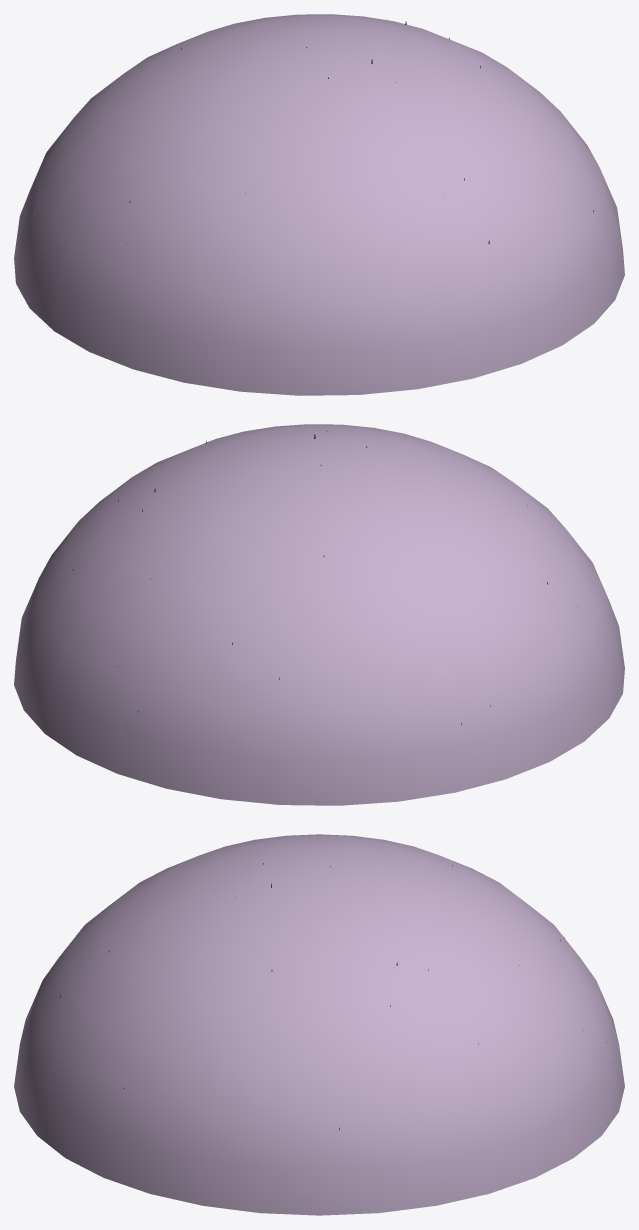
The model's file is particule_000002.obj.
The picture shows the model from 3 angles, top to bottom: view 1: azimuth 30°, elevation 25°; view 2: azimuth 150°, elevation 25°; view 3: azimuth 270°, elevation 25°; orthographic projection.
Parts seen in each view (by area): view 1: Sphère; view 2: Sphère; view 3: Sphère.
Boxes of the visible parts, <box> form: Sphère: <box>14,14,624,395</box>; Sphère: <box>14,424,624,805</box>; Sphère: <box>14,834,624,1215</box>.
Bounding box in the file's own units: 63430 × 25072 × 63430.
